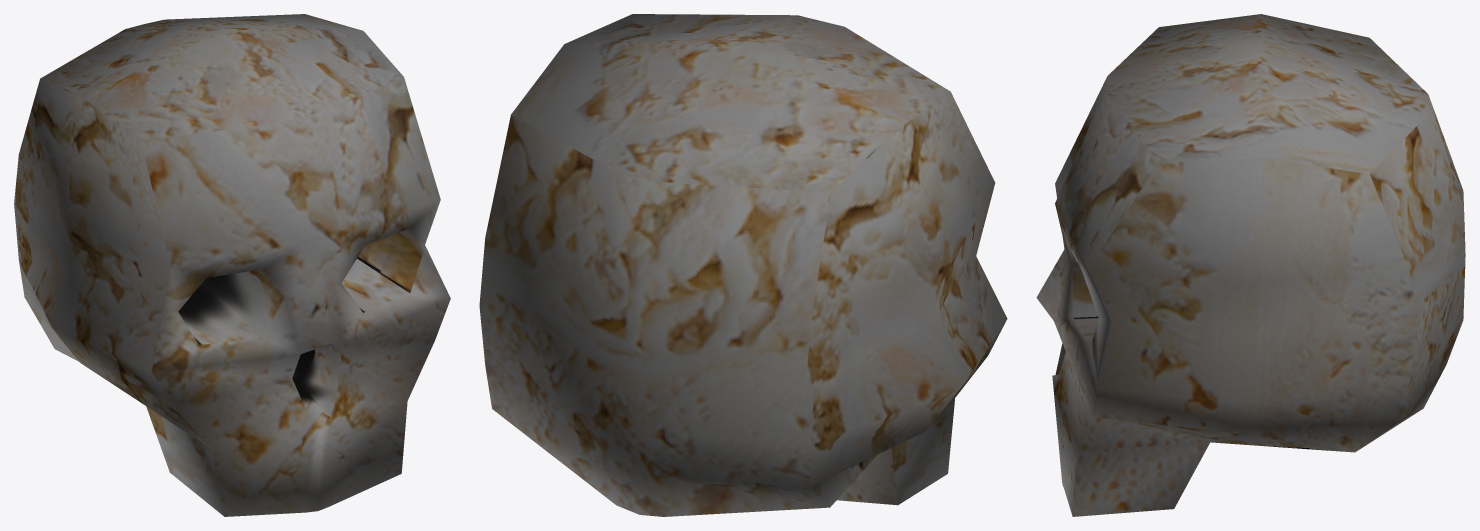
The model's file is Skull.fbx.
The picture shows the model from 3 angles, left to right: view 1: azimuth 30°, elevation 25°; view 2: azimuth 150°, elevation 25°; view 3: azimuth 270°, elevation 25°; orthographic projection. The views are drawn at different scales.
Visible parts, largest first — view 1: Skull; view 2: Skull; view 3: Skull.
Boxes of the visible parts, <box> form: Skull: <box>14,14,450,516</box>; Skull: <box>479,14,1007,516</box>; Skull: <box>1036,14,1465,516</box>.
Bounding box in the file's own units: 0.3087 × 0.3357 × 0.3013.
